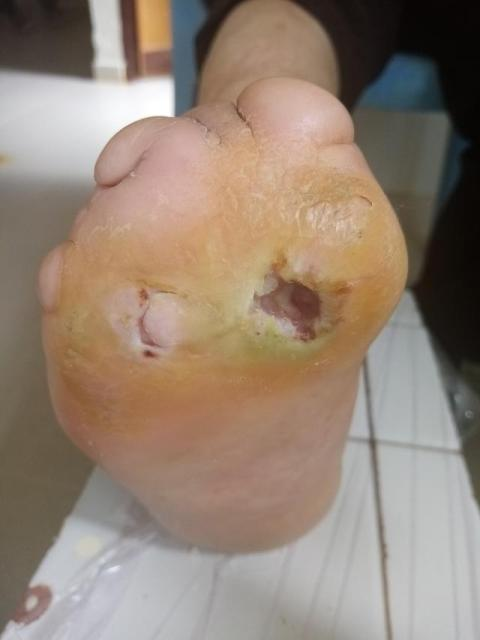wound: (240, 258, 329, 345), (132, 281, 183, 360)
